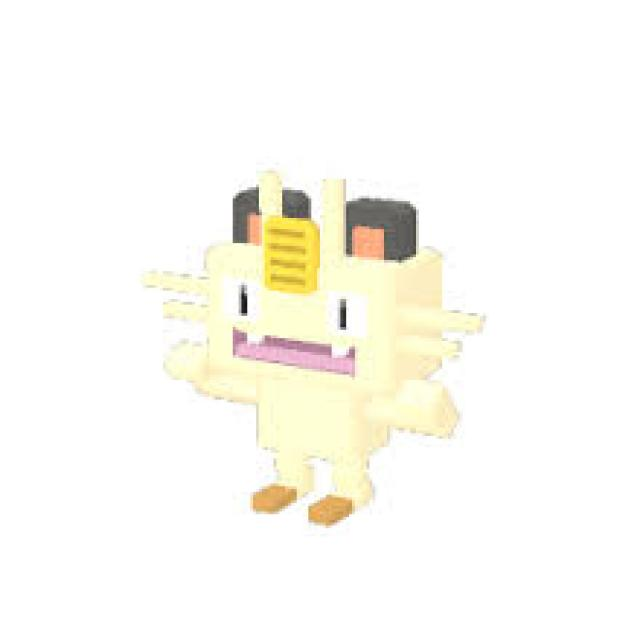Meowth: (206, 189, 429, 505)
